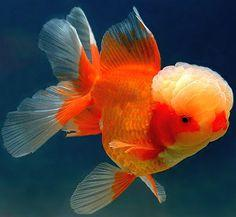goldfish: (26, 17, 234, 197)
